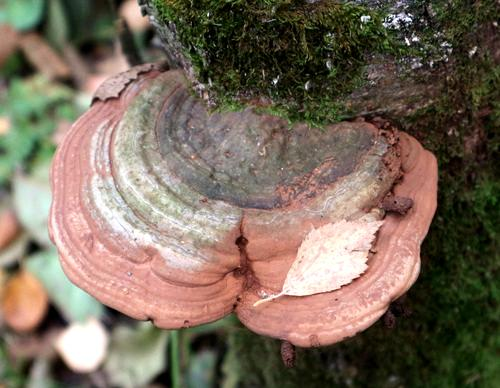Ganoderma - Fruit Body: (52, 54, 439, 348)
